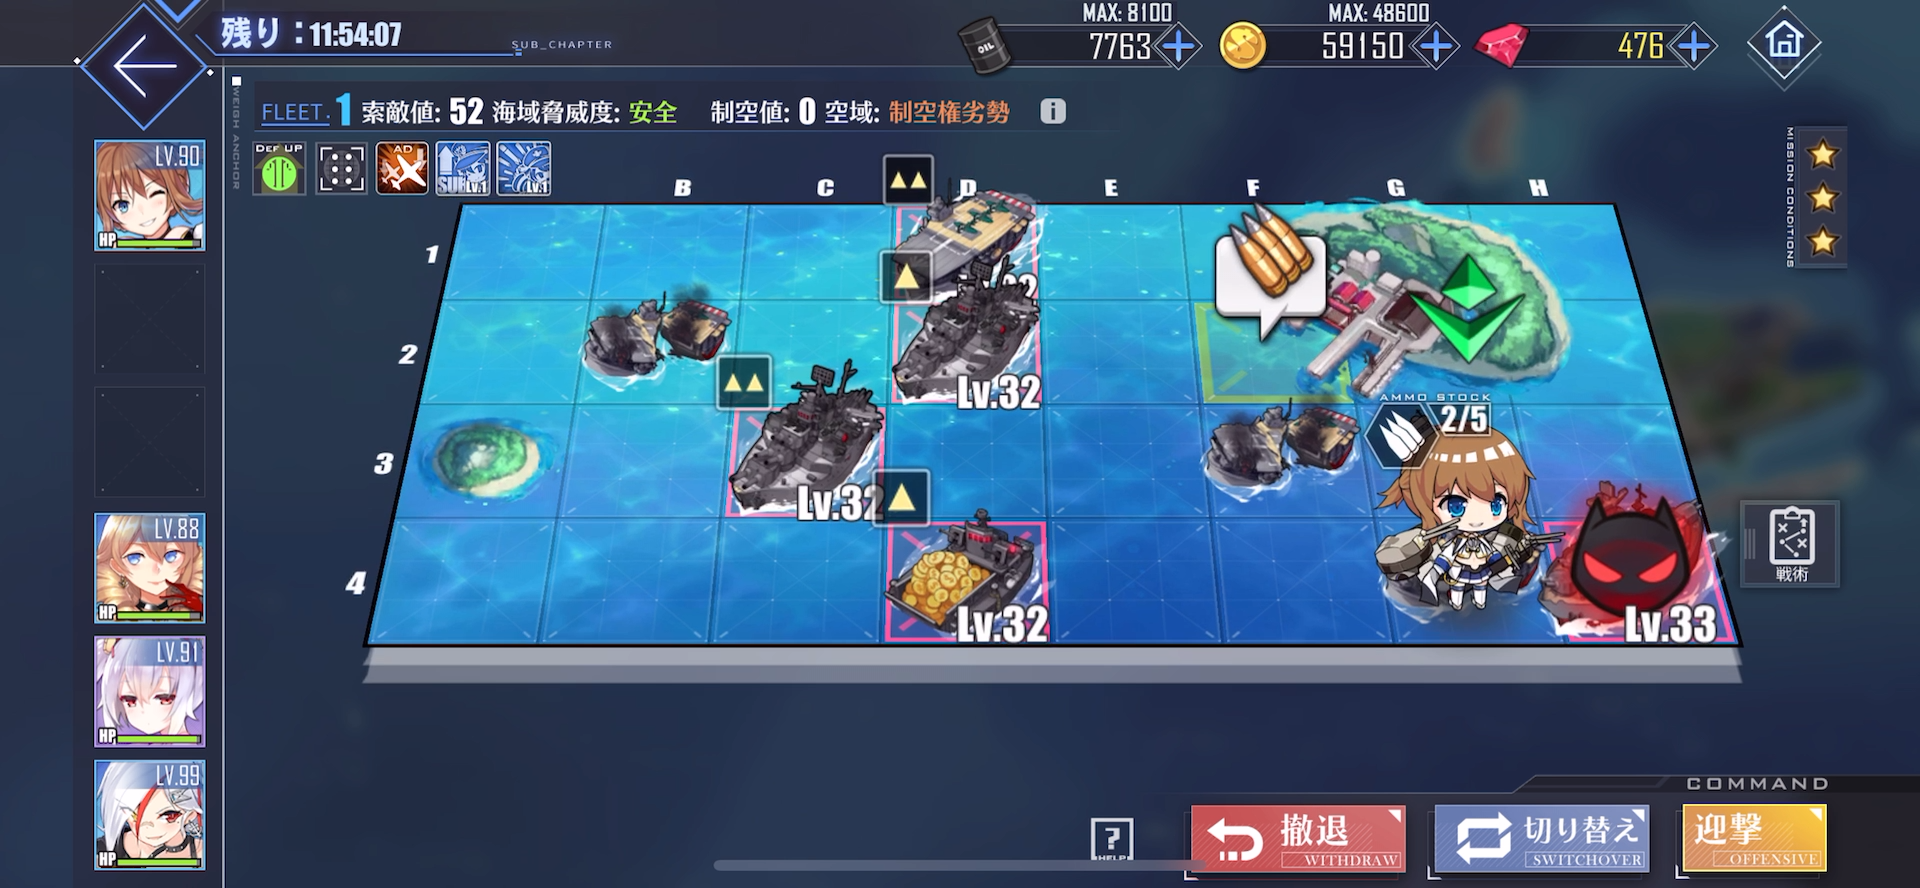boss: (1547, 481, 1722, 636)
